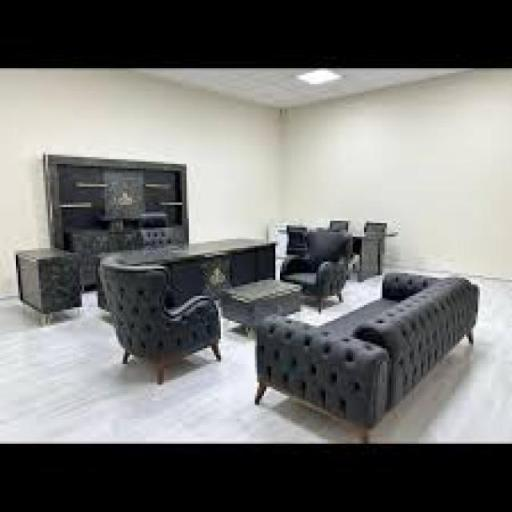sofa: (256, 256, 512, 458)
